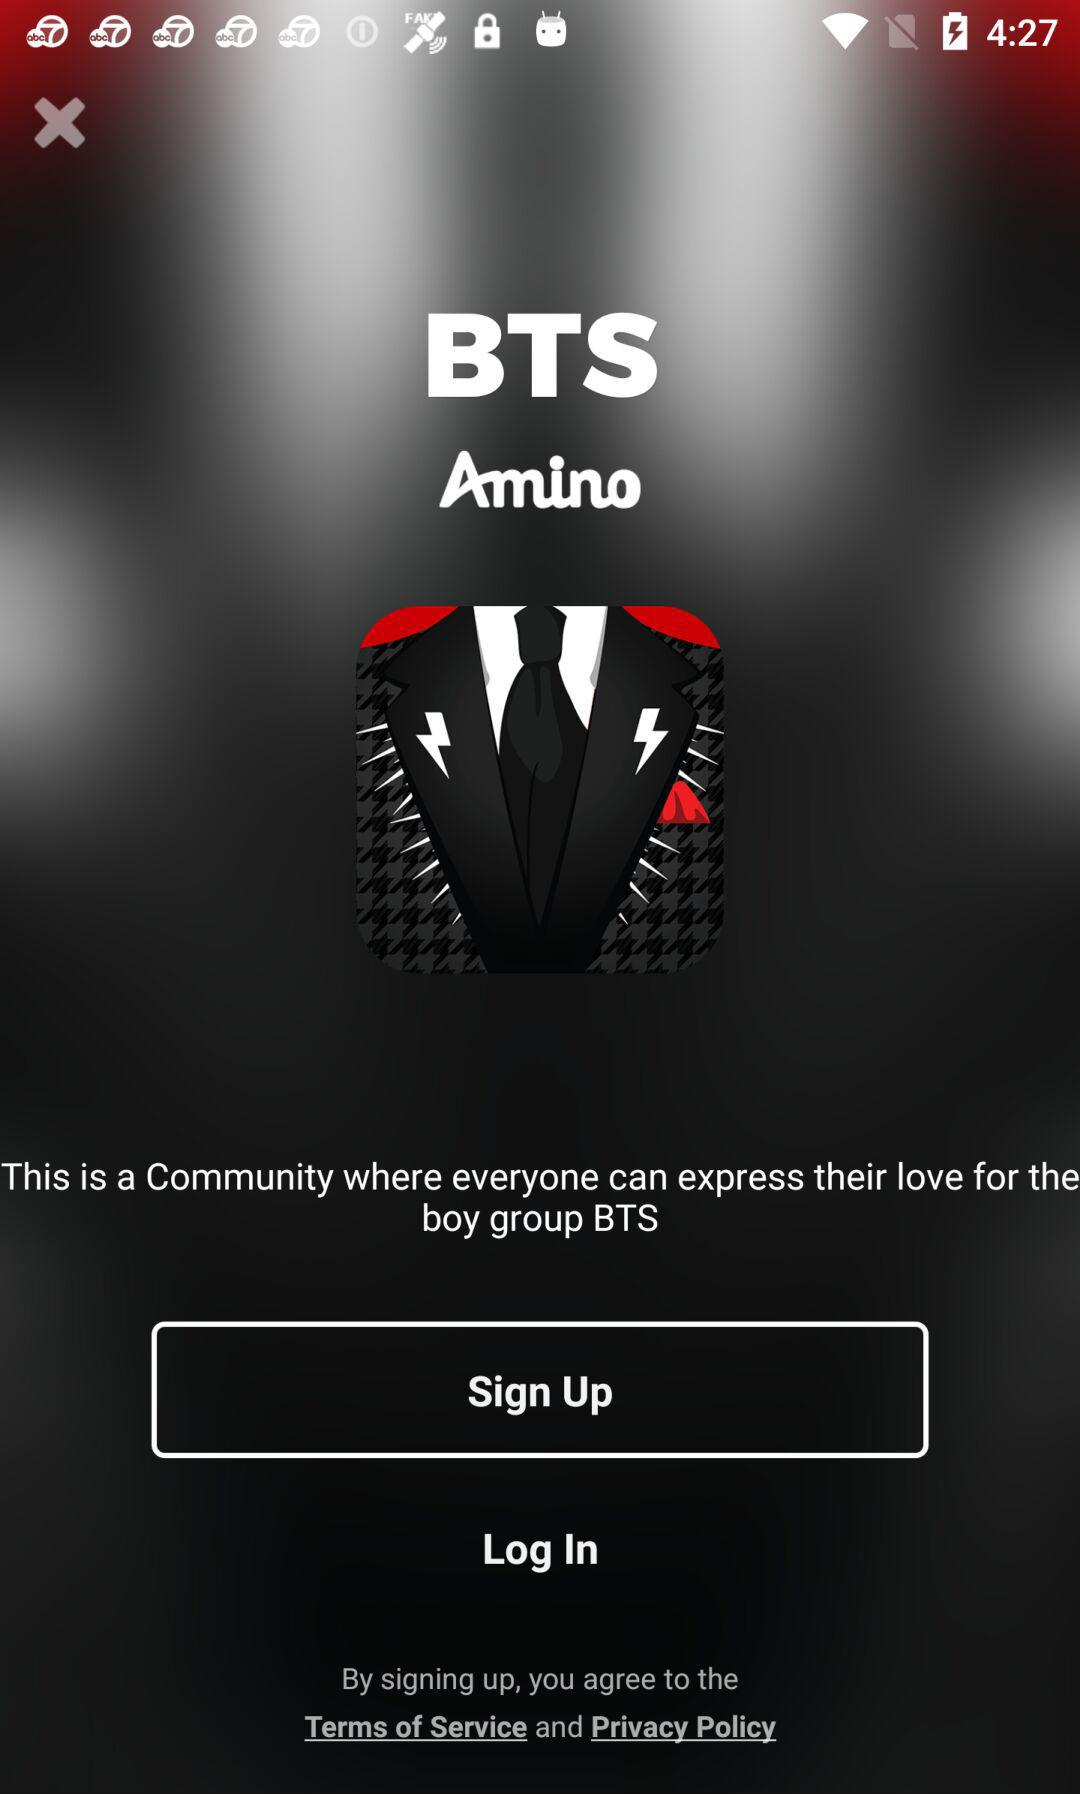Icon: (35, 97, 87, 151)
Image: (355, 606, 726, 976), (438, 448, 643, 511)
Text: (3, 1161, 1080, 1243), (304, 1665, 779, 1744), (427, 311, 660, 401), (484, 1533, 598, 1574)
TextButton: (151, 1321, 929, 1460)
UpperTaskBar: (1, 1, 1080, 58)
